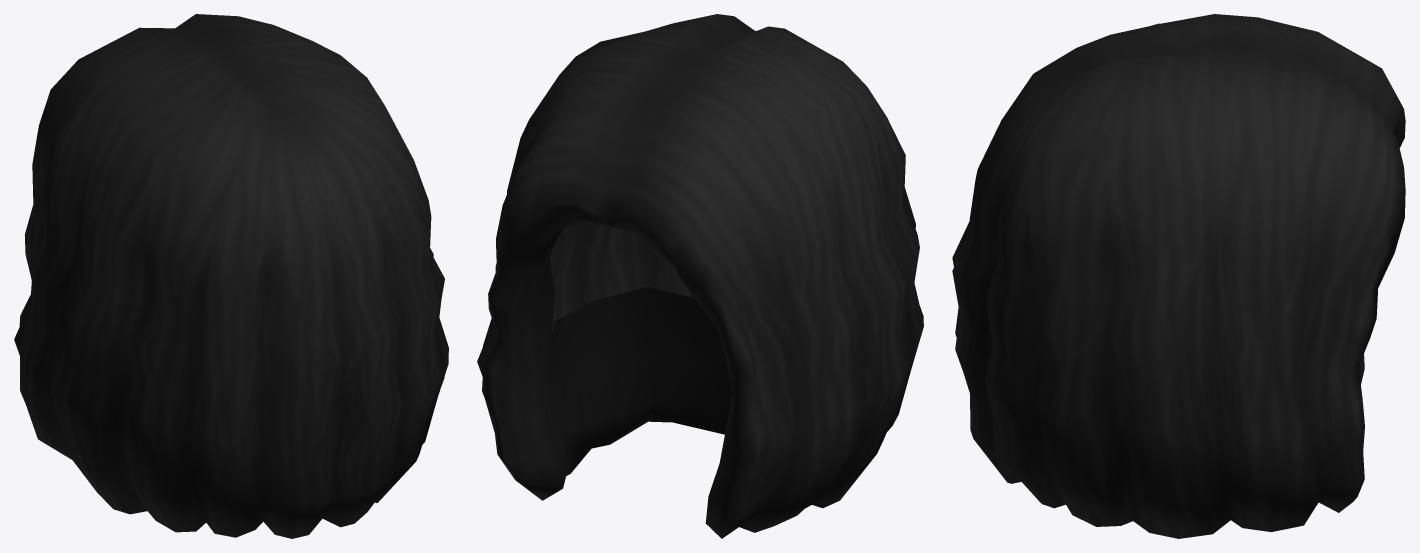
The model's file is Hair_Female_006_textured_black.glb.
3 renders of one model, left to right at view 1: azimuth 30°, elevation 25°; view 2: azimuth 150°, elevation 25°; view 3: azimuth 270°, elevation 25°, orthographic. The views are drawn at different scales.
Visible parts, largest first — view 1: Hair_Female_006; view 2: Hair_Female_006; view 3: Hair_Female_006.
Boxes of the visible parts, x1=… form: Hair_Female_006: x1=14, y1=14, x2=448, y2=538; Hair_Female_006: x1=477, y1=14, x2=923, y2=538; Hair_Female_006: x1=952, y1=14, x2=1405, y2=538.
Size of the model in its own units: 0.2471 by 0.277 by 0.2597.
Materials: 1 (1 with a texture image).
